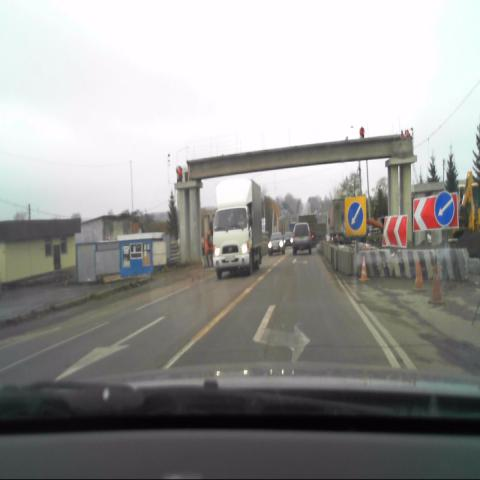4_2_2: (344, 195, 366, 237)
